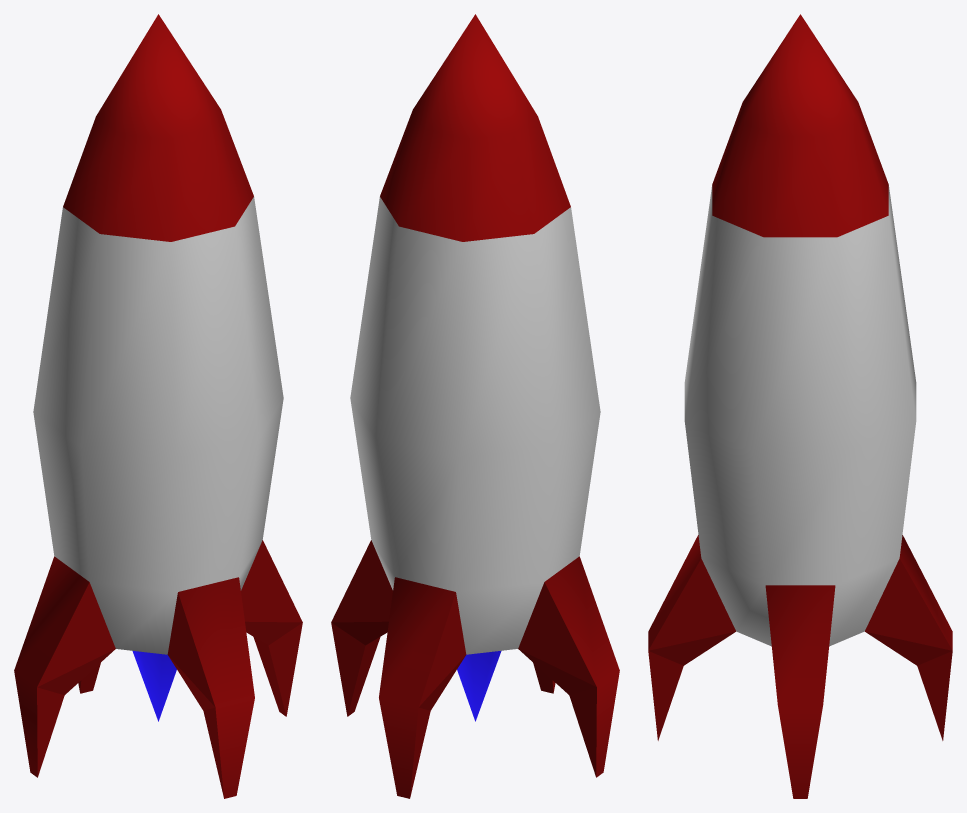
File: roket.FBX
3 views of the same model, side by side, from view 1: azimuth 30°, elevation 25°; view 2: azimuth 150°, elevation 25°; view 3: azimuth 270°, elevation 25° (orthographic).
Parts seen in each view (by area): view 1: Cylinder001; view 2: Cylinder001; view 3: Cylinder001.
Boxes of the visible parts, x1,y1,x2,y2 form: Cylinder001: [14, 14, 302, 798]; Cylinder001: [331, 14, 619, 798]; Cylinder001: [648, 14, 952, 798].
Size of the model in its own units: 185 by 487 by 185.
